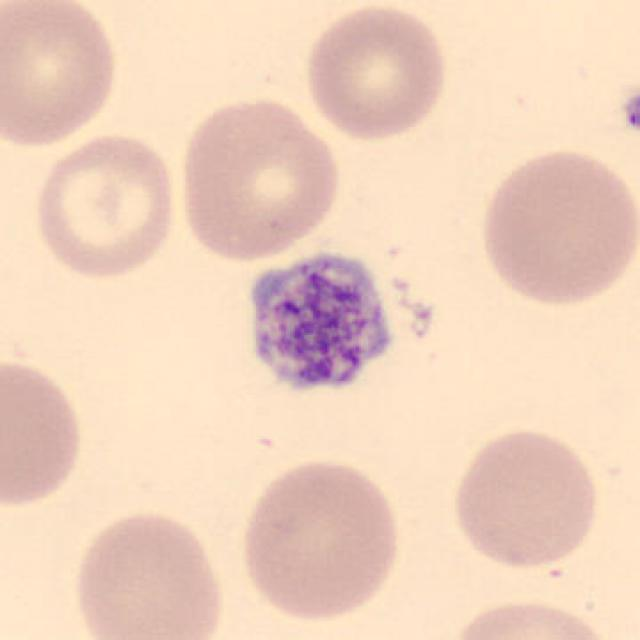Platelets: (229, 240, 411, 414), (617, 86, 640, 141)
RBC: (172, 92, 345, 266), (235, 453, 407, 626), (473, 143, 638, 310), (446, 423, 604, 573), (28, 129, 182, 282), (68, 504, 230, 640), (300, 1, 452, 144), (0, 0, 124, 151), (0, 351, 89, 513), (444, 594, 618, 640)
